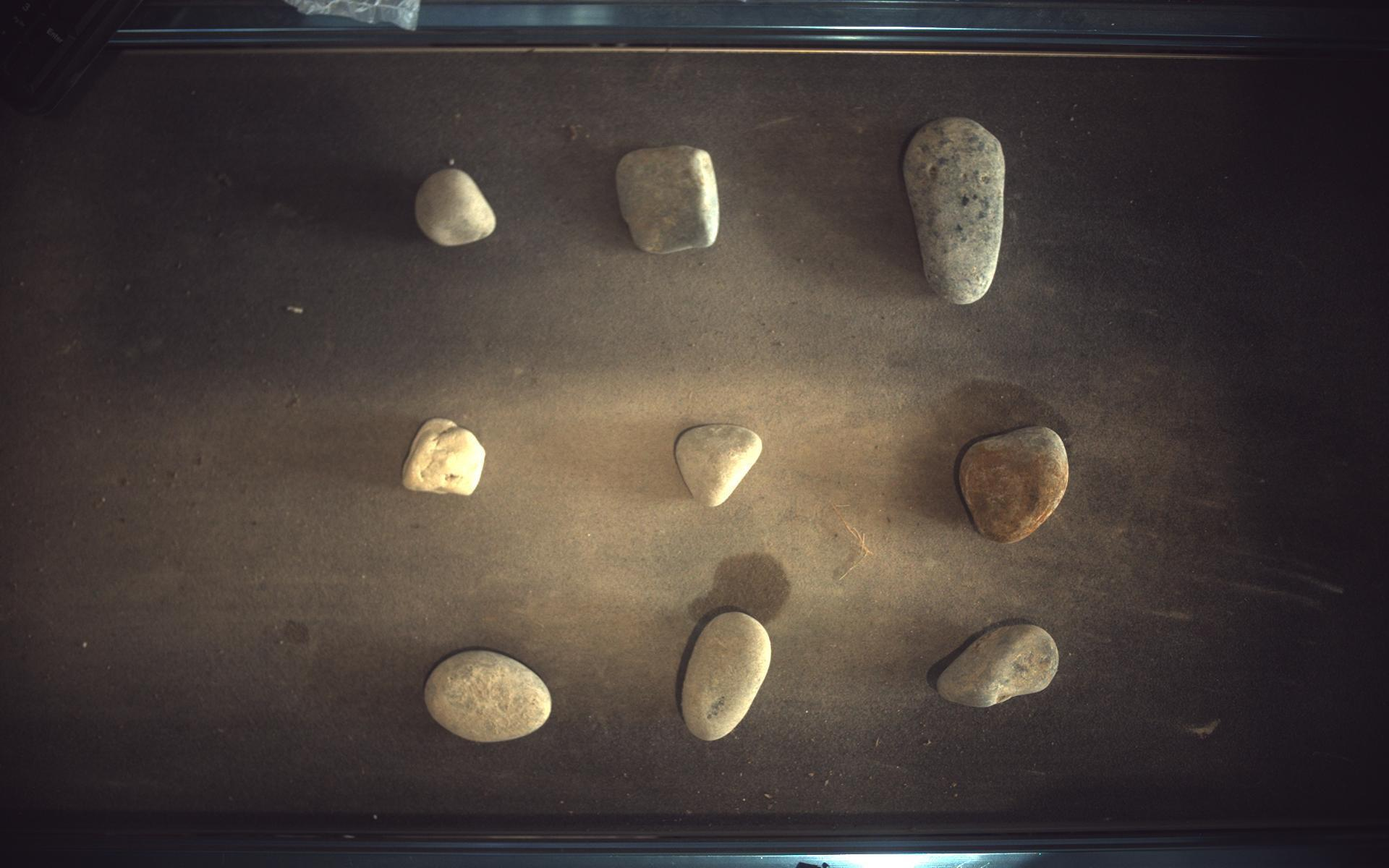stone: (905, 116, 1007, 305), (962, 427, 1071, 543), (682, 613, 773, 742), (425, 651, 551, 744), (616, 144, 721, 253), (938, 625, 1061, 708), (676, 424, 763, 507), (415, 166, 496, 245), (404, 418, 485, 495)
